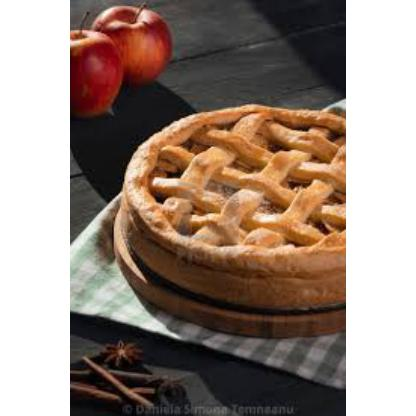apple: (98, 5, 178, 86), (70, 22, 122, 114)
